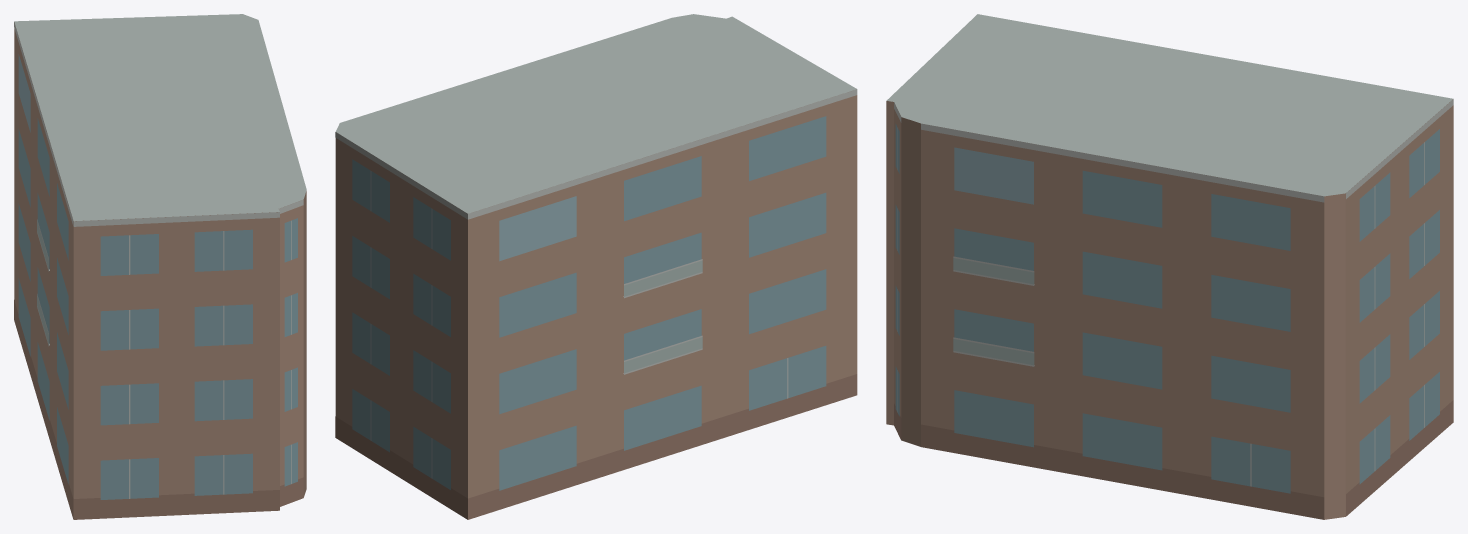
Rendered from survey-upis-32480935.glb.
The picture shows the model from 3 angles, left to right: view 1: azimuth 30°, elevation 25°; view 2: azimuth 150°, elevation 25°; view 3: azimuth 270°, elevation 25°; orthographic projection. The views are drawn at different scales.
Parts seen in each view (by area): view 1: survey-upis-32480935.tmp; view 2: survey-upis-32480935.tmp; view 3: survey-upis-32480935.tmp.
Part boxes in pixels (x1=…): survey-upis-32480935.tmp: x1=14, y1=14, x2=306, y2=519; survey-upis-32480935.tmp: x1=335, y1=14, x2=857, y2=519; survey-upis-32480935.tmp: x1=886, y1=14, x2=1453, y2=519.
Size of the model in its own units: 15.36 by 12.7 by 20.19.
